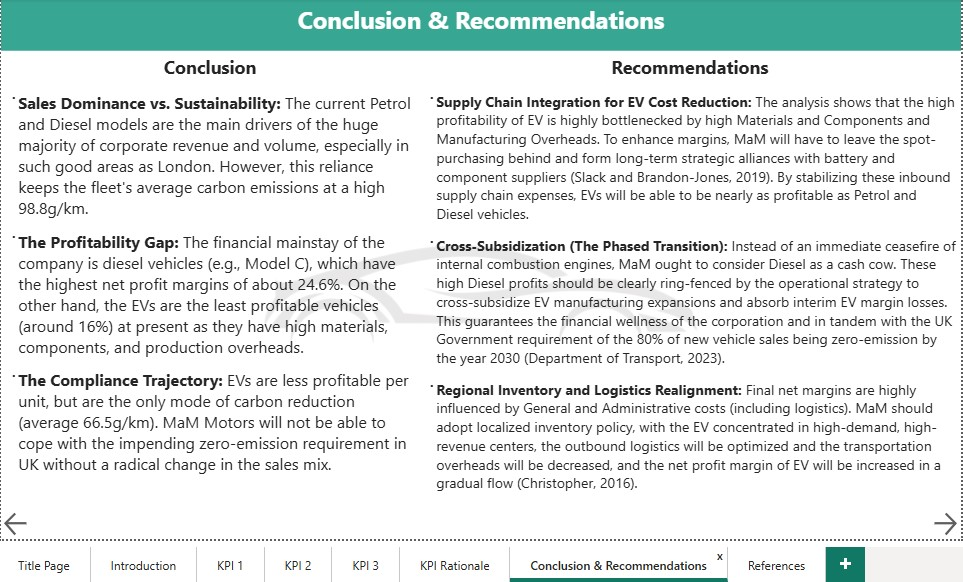

What the dashboard file says about the page in this screenshot:
{"tool":"powerbi","page":{"name":"Conclusion & Recommendations","canvas":[1280,720],"ordinal":6},"visuals":[{"type":"image","box":[0,69.3,1280,650.7],"z":0},{"type":"textbox","box":[0,68.9,557.7,651.8],"z":1000},{"type":"textbox","box":[0,0,1280,68.9],"z":2000},{"type":"textbox","box":[557.7,68.9,722.3,651.8],"z":3000},{"type":"actionButton","box":[0,679.9,45.4,39.9],"z":4000},{"type":"actionButton","box":[1238.7,679.9,41.3,39.9],"z":5000}]}

Visuals, with their boxes on the page's 1280x720 design canvas (x1, y1, x2, y2). These are canvas units, not pixel positions in the 963x582 screenshot, which may show the page scaled, cropped or inside an application window:
image: rect(0, 69, 1280, 720)
textbox: rect(0, 69, 558, 721)
textbox: rect(0, 0, 1280, 69)
textbox: rect(558, 69, 1280, 721)
actionButton: rect(0, 680, 45, 720)
actionButton: rect(1239, 680, 1280, 720)
